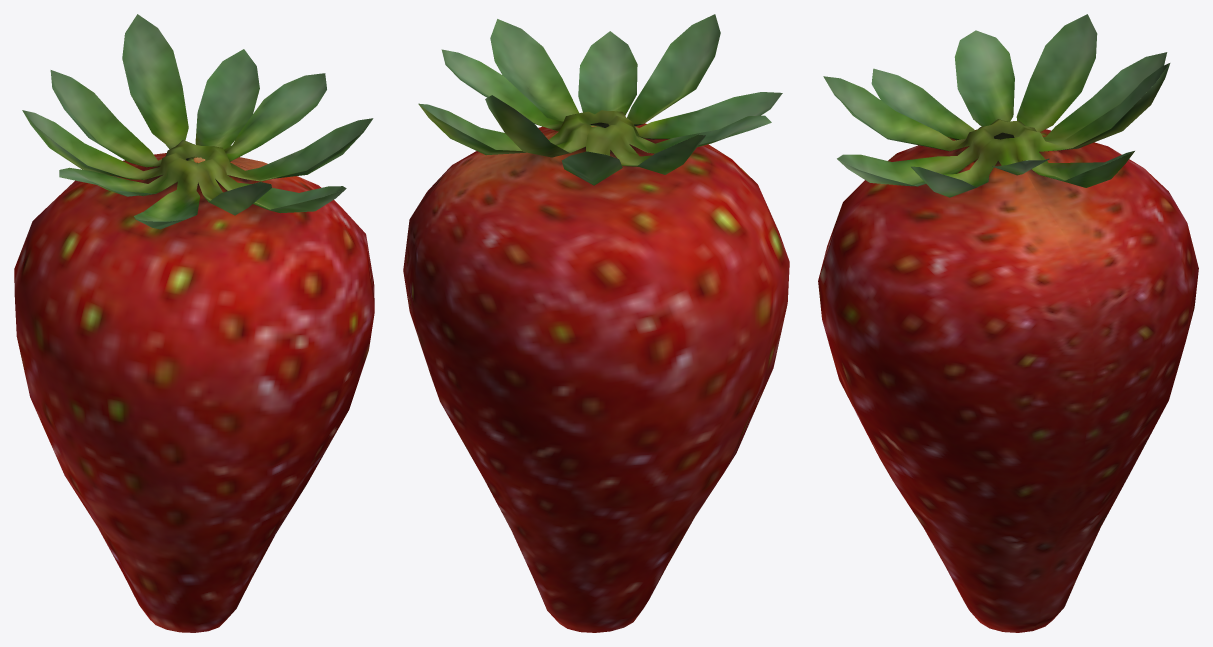
Rendered from strawb_01.fbx.
3 views of the same model, side by side, from view 1: azimuth 30°, elevation 25°; view 2: azimuth 150°, elevation 25°; view 3: azimuth 270°, elevation 25° (orthographic). The views are drawn at different scales.
Parts seen in each view (by area): view 1: model_7.001; view 2: model_7.001; view 3: model_7.001.
Part boxes in pixels (<box>): model_7.001: <box>14,14,374,632</box>; model_7.001: <box>403,14,789,632</box>; model_7.001: <box>818,14,1198,632</box>.
Bounding box in the file's own units: 98.42 × 164 × 98.57.
